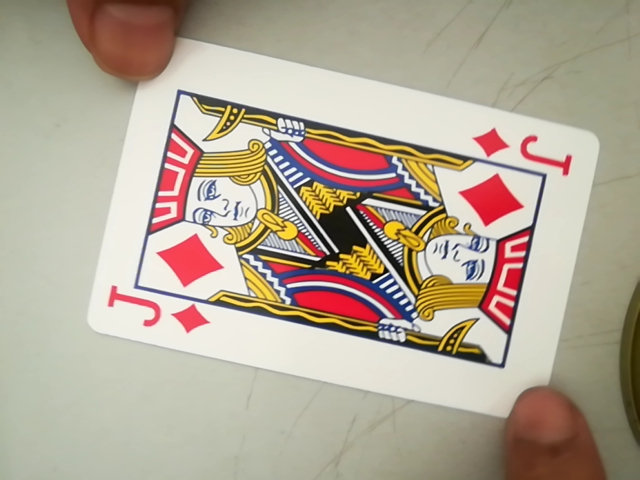fk j: (98, 288, 218, 340), (474, 124, 578, 172)
